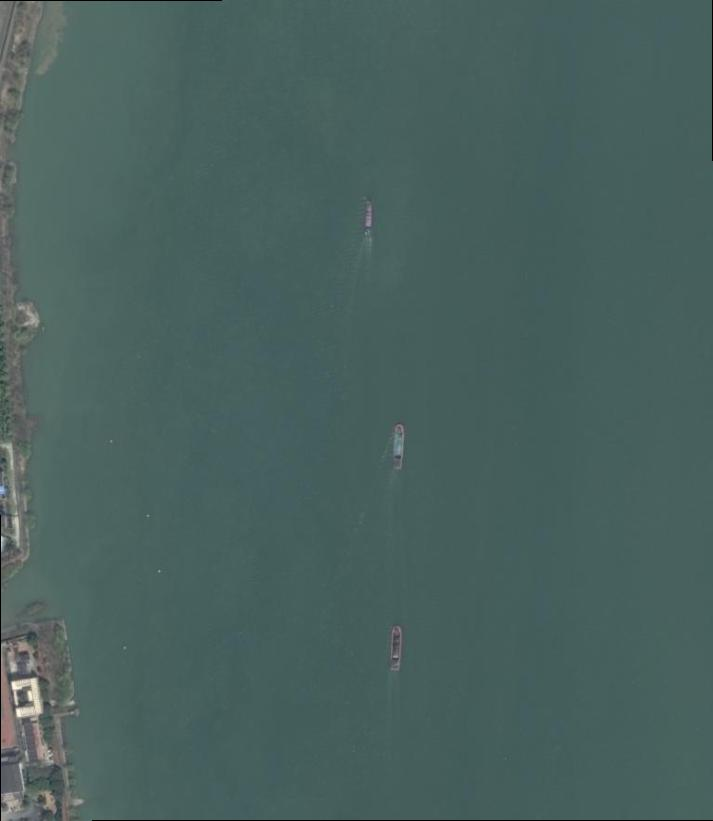ship: (390, 624, 403, 672), (393, 423, 405, 469), (364, 200, 374, 237)
